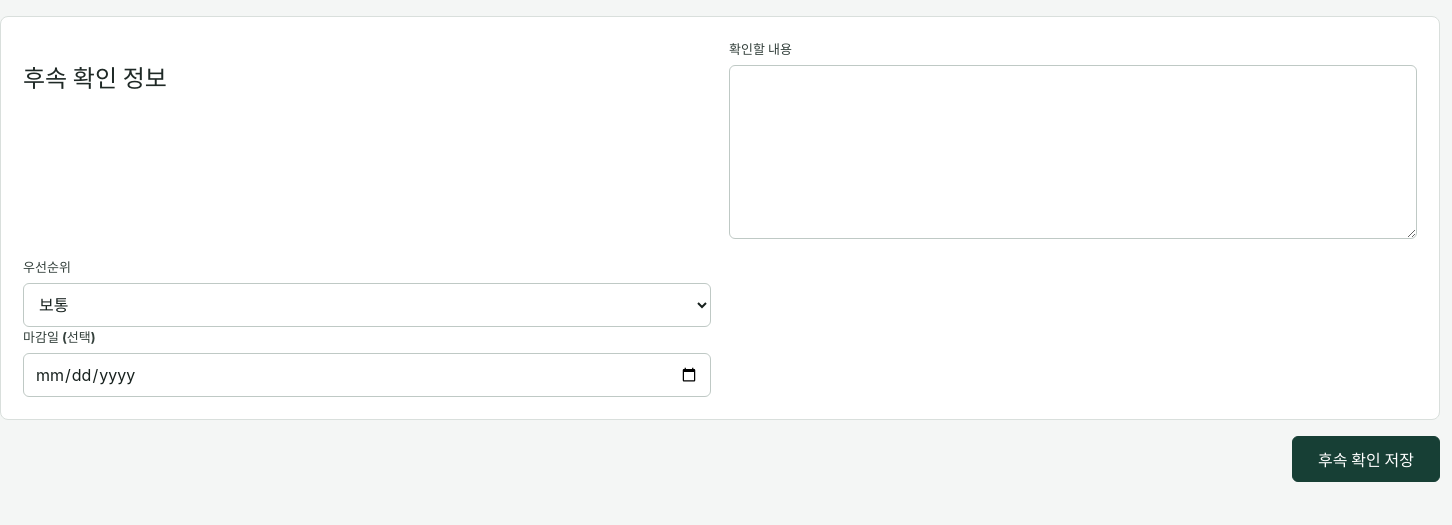
Test: NewsFollowupForm › shows required check text near the field
The width and height of the screenshot is (1452, 525).
Step 1. Click the button "후속 확인 저장" → (1366, 459), box x1=1292 y1=436 x2=1440 y2=482
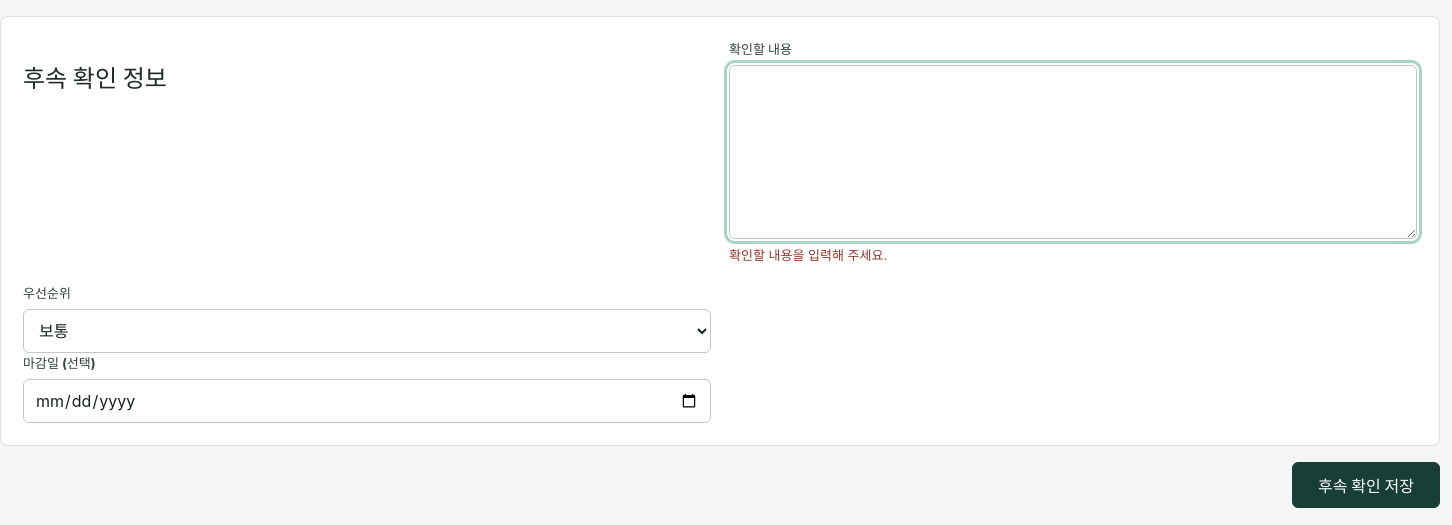
Expected: the text "확인할 내용을 입력해 주세요." is shown, x1=729 y1=247 x2=887 y2=263
